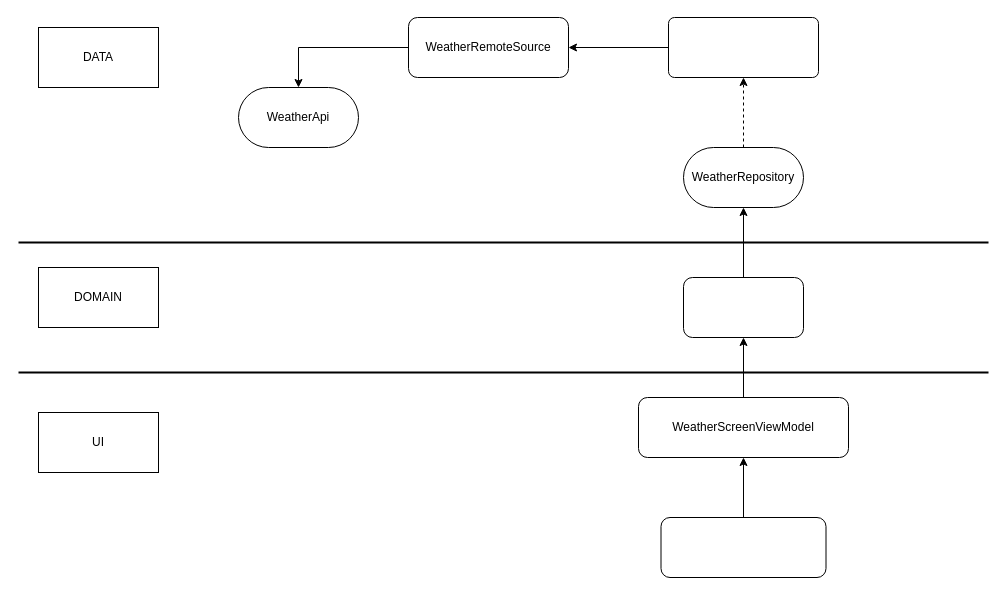
Image size: 1006x595. Some labels were removed from this diagram. Each missing label, with the box of its shape:
GetWeatherUseCase: (682, 276, 804, 338)
WeatherRepositoryImpl: (668, 16, 818, 78)
WeatherScreenFragment: (660, 516, 826, 578)
